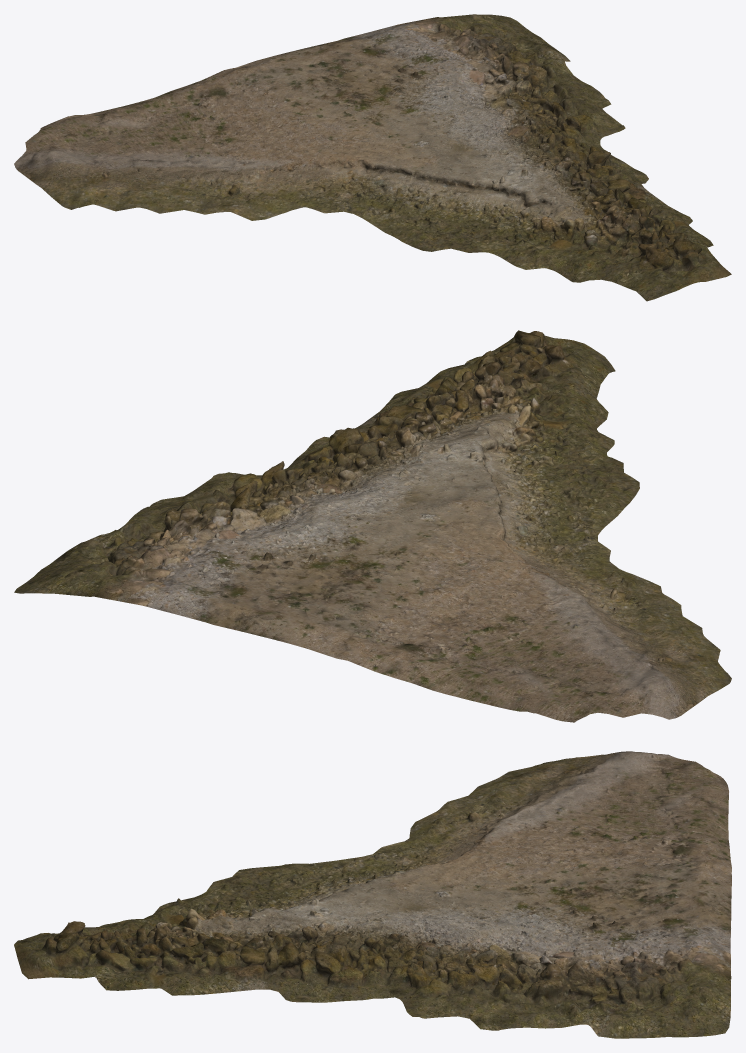
File: coast_rocks_02_lod.glb
3 renders of one model, top to bottom at view 1: azimuth 30°, elevation 25°; view 2: azimuth 150°, elevation 25°; view 3: azimuth 270°, elevation 25°, orthographic. The views are drawn at different scales.
Visible parts, largest first — view 1: coast_rocks_02; view 2: coast_rocks_02; view 3: coast_rocks_02.
Part boxes in pixels (left/top/right/bottom): coast_rocks_02: left=14, top=14, right=731, bottom=301; coast_rocks_02: left=14, top=330, right=731, bottom=722; coast_rocks_02: left=14, top=751, right=731, bottom=1038.
Size of the model in its own units: 45.96 by 3.16 by 49.46.
Materials: 1 (1 with a texture image).
